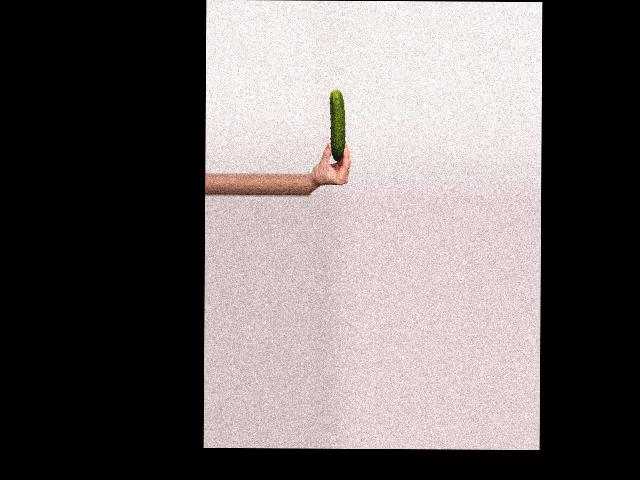cucumber: (330, 90, 345, 161)
